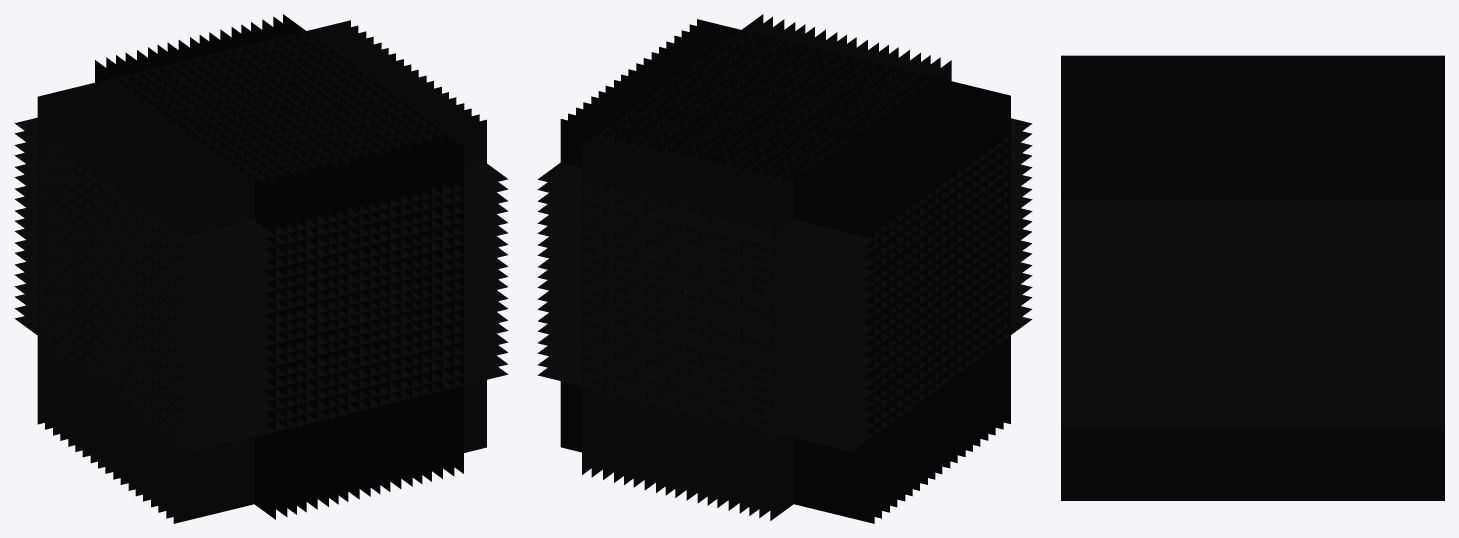
File: clouds.glb
The picture shows the model from 3 angles, left to right: view 1: azimuth 30°, elevation 25°; view 2: azimuth 150°, elevation 25°; view 3: azimuth 270°, elevation 25°; orthographic projection. The views are drawn at different scales.
Parts seen in each view (by area): view 1: N_cloud__Z, N_cloud__X, N_cloud__Y; view 2: N_cloud__Z, N_cloud__X, N_cloud__Y; view 3: N_cloud__Y, N_cloud__X.
Boxes of the visible parts, x1=… form: N_cloud__Z: x1=37, y1=20, x2=486, y2=523; N_cloud__X: x1=95, y1=14, x2=463, y2=519; N_cloud__Y: x1=14, y1=117, x2=508, y2=450; N_cloud__Z: x1=560, y1=19, x2=1010, y2=523; N_cloud__X: x1=582, y1=14, x2=951, y2=520; N_cloud__Y: x1=537, y1=118, x2=1032, y2=451; N_cloud__Y: x1=1061, y1=199, x2=1444, y2=429; N_cloud__X: x1=1061, y1=55, x2=1444, y2=500.
Bounding box in the file's own units: 1 × 1 × 1.
Materials: 3 (3 with a texture image).
